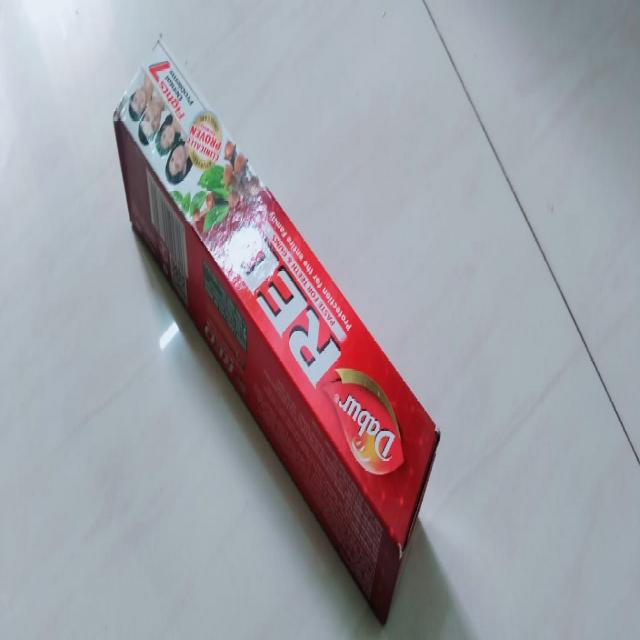tooth paste: (103, 29, 448, 627)
